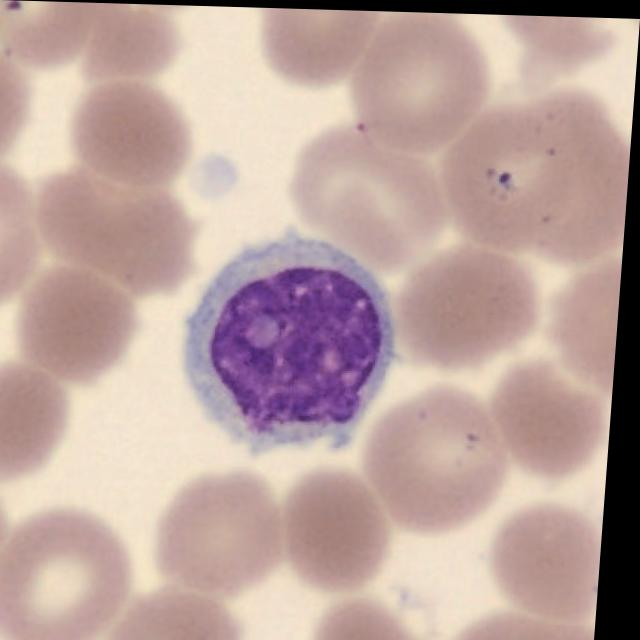Linfocito: (187, 230, 401, 458)
